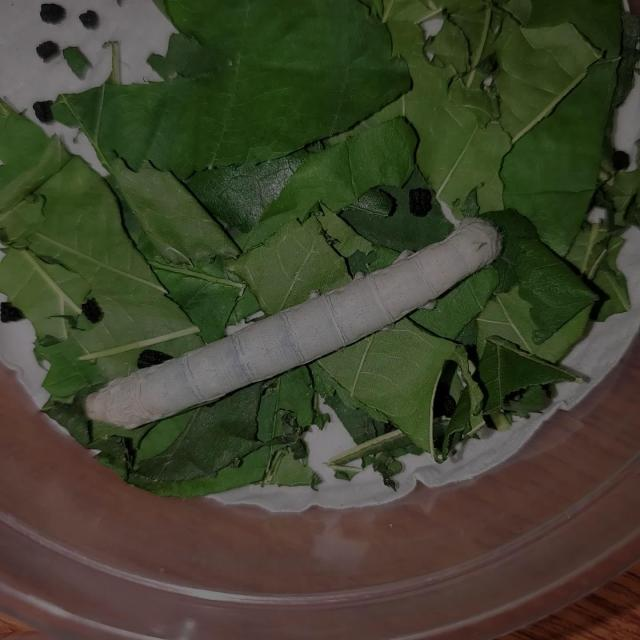Healthy: (46, 196, 536, 446)
